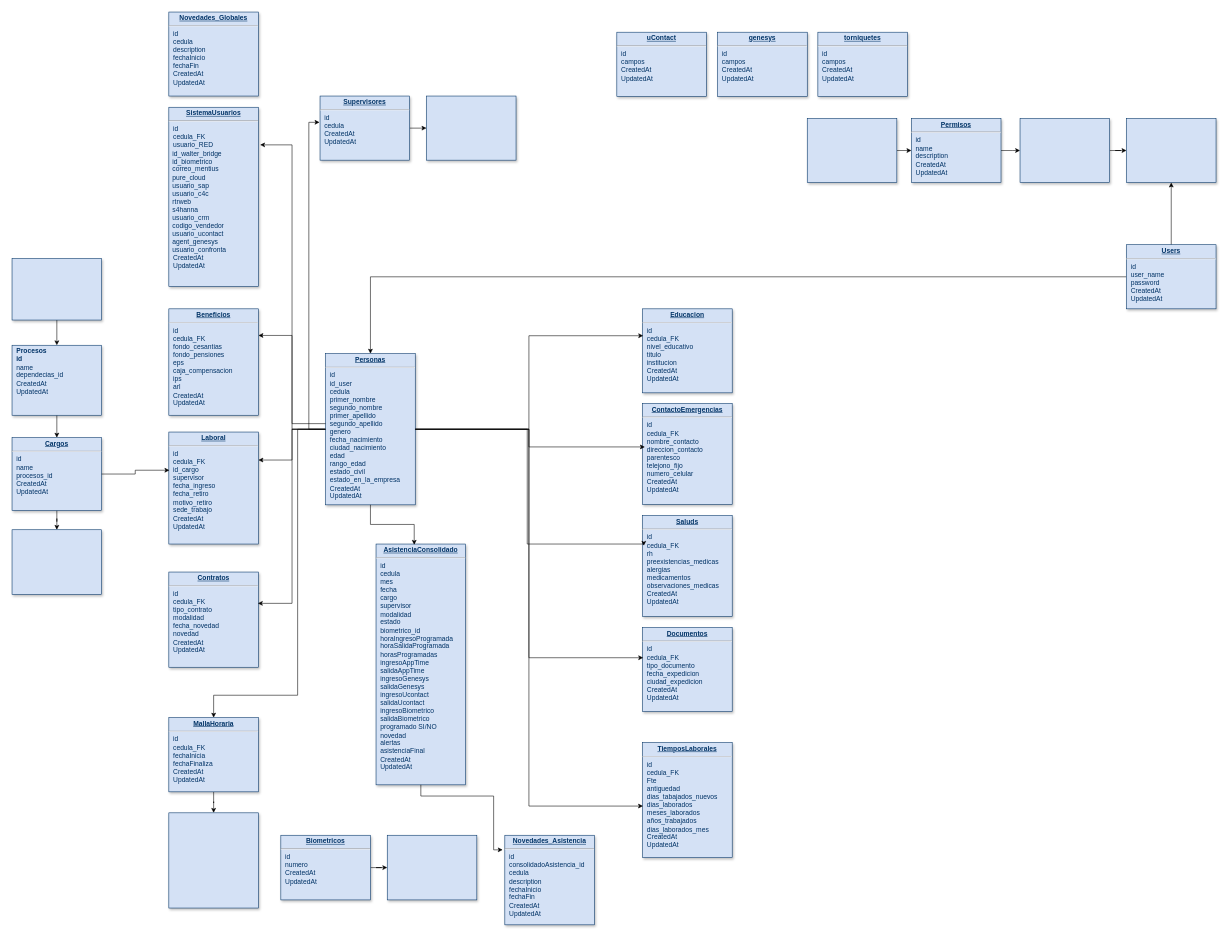
Some shapes in this 1229 by 939 pixel diagram are drawn without their labels. Here are the shapes that lost their labels. From the top down, the centre of each, then its label:
At pixel 471 128: "MyTeam id id_supervisor cedula CreatedAt UpdatedAt".
At pixel 852 151: "Roles id name description CreatedAt UpdatedAt".
At pixel 1065 151: "Permisos_Roles id role_id permisos_id CreatedAt UpdatedAt".
At pixel 1171 151: "Roles_user id user_id role_id CreatedAt UpdatedAt".
At pixel 57 290: "Dependencias id name CreatedAt UpdatedAt".
At pixel 57 562: "Campañas id name cargos_id CreatedAt UpdatedAt".
At pixel 214 861: "Horarios id malla_id diaSemana horaInicio horaFin CreatedAt UpdatedAt".
At pixel 432 868: "Biometricos_prestamo id biometrico_id cedula CreatedAt UpdatedAt".
